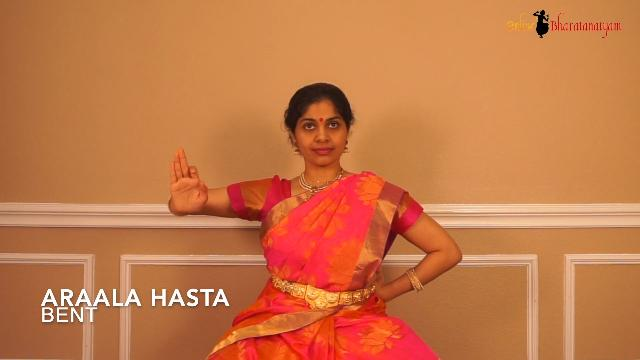aral: (158, 146, 220, 242)
